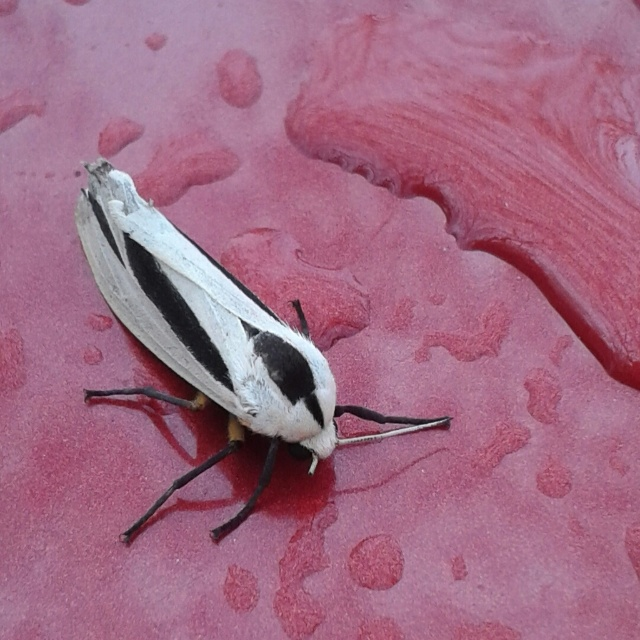Moths and butterflies: (74, 157, 457, 544)
